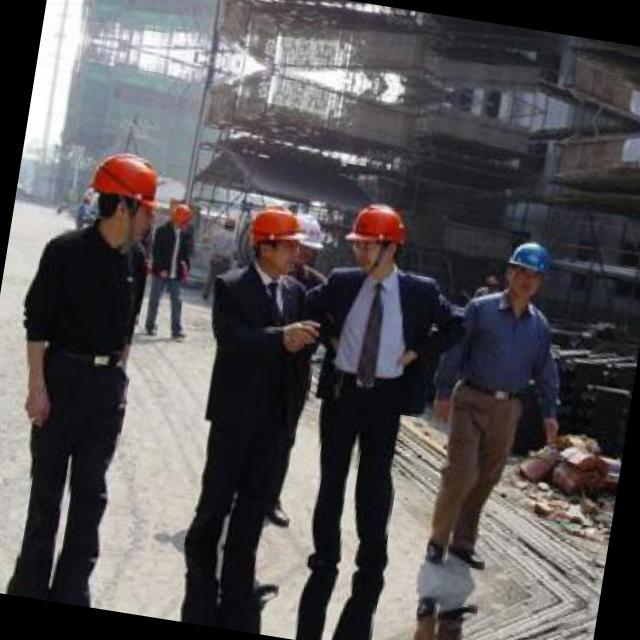helmet: (82, 148, 160, 248), (340, 195, 410, 275), (240, 203, 304, 275), (498, 235, 556, 306), (287, 207, 332, 274), (164, 198, 194, 235)
